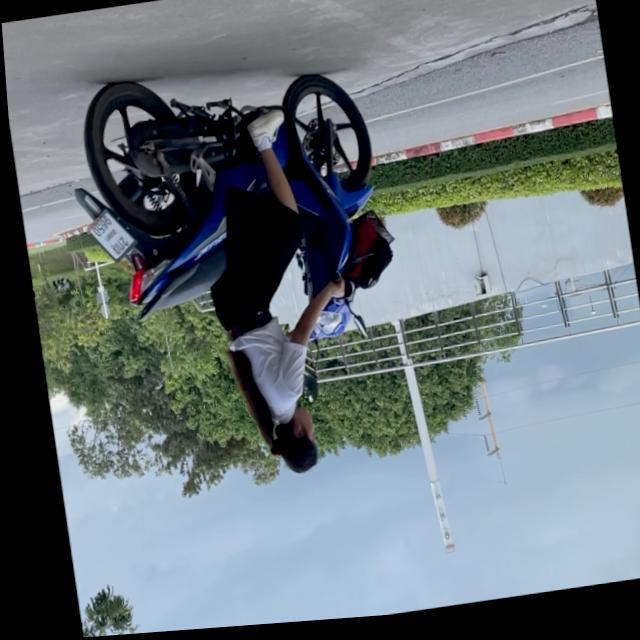seatbelt: (260, 406, 313, 480)
